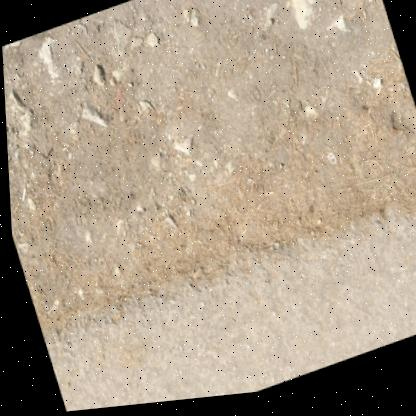Metal: (325, 158, 335, 171)
Waste: (20, 186, 24, 201)
